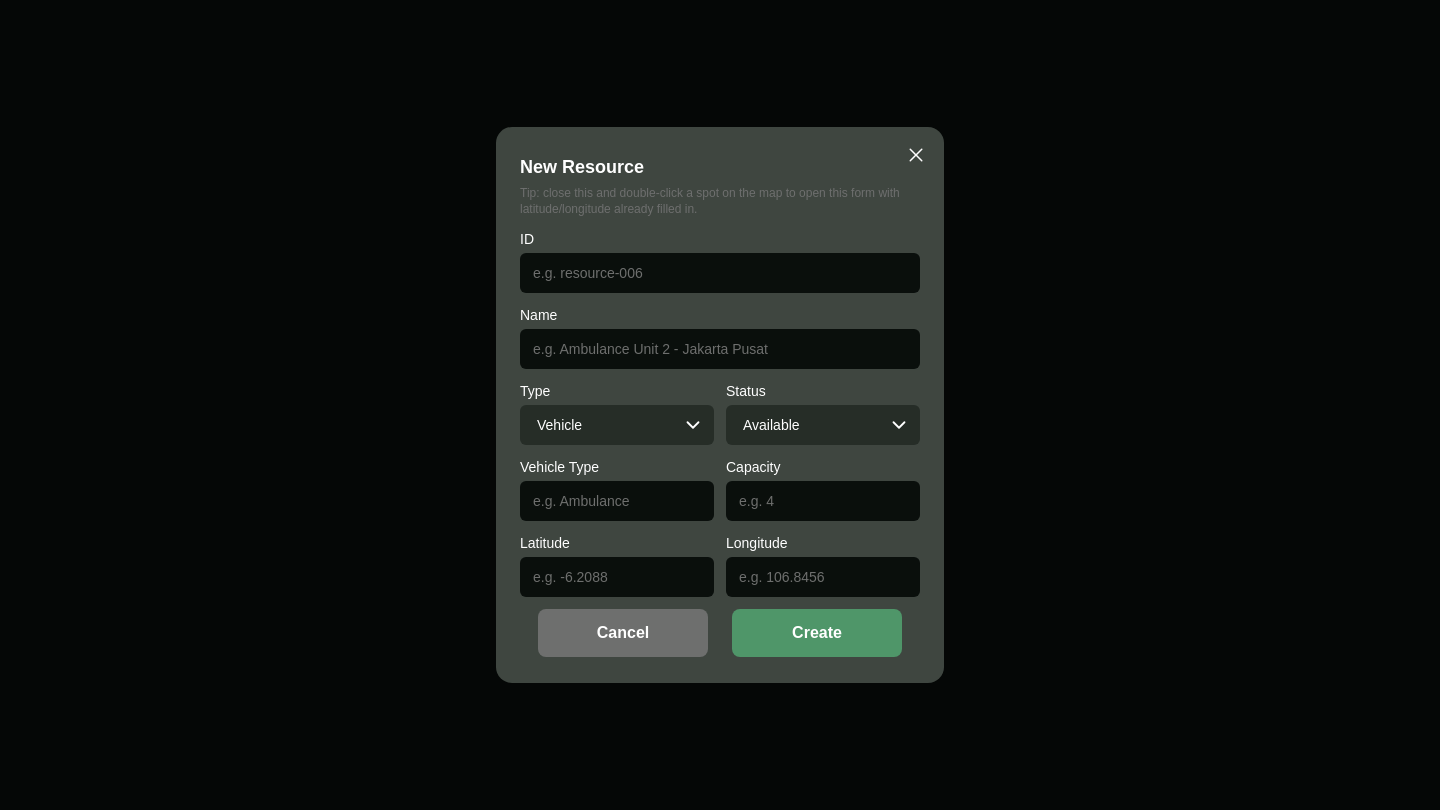
it: CreateResourceModal › shows a RESOURCE_ID_CONFLICT response under the id field without closing
The image size is (1440, 810).
In the field labelled "ID": coordinates (720, 273) [520,253,920,293], type "res-001"
In the field labelled "Name": coordinates (720, 349) [520,329,920,369], type "Ambulance 12"
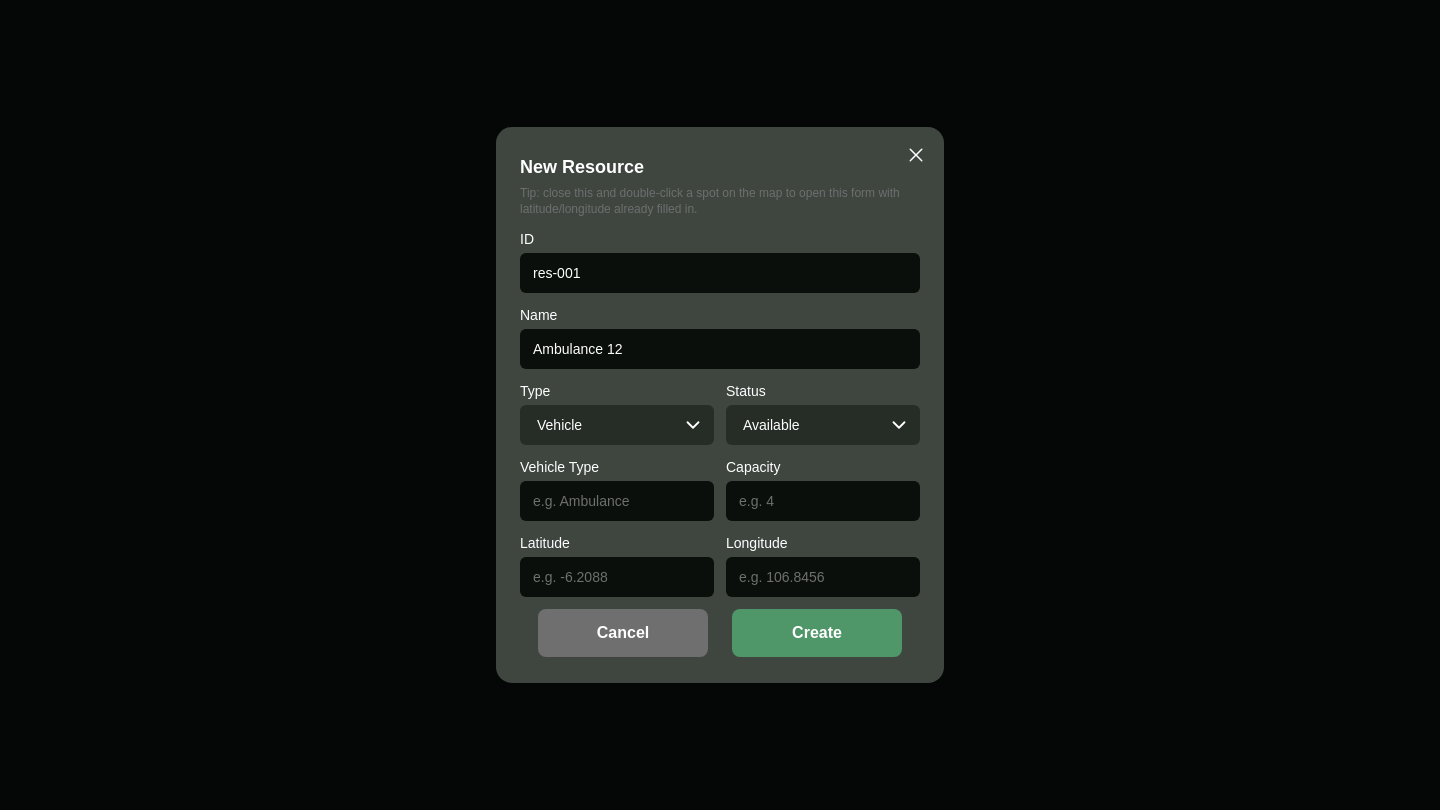
In the field labelled "Vehicle Type": coordinates (617, 501) [520,481,714,521], type "Ambulance"
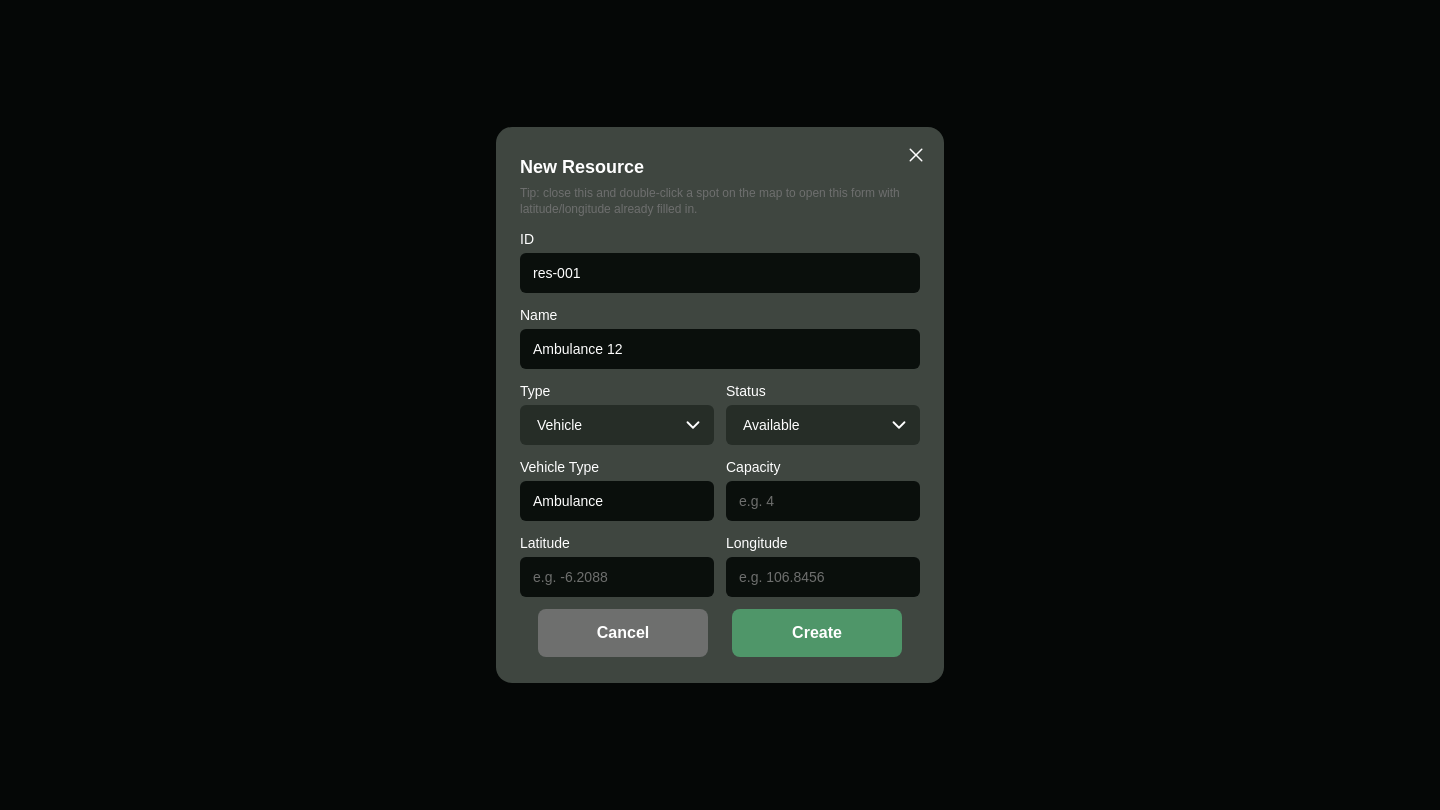
In the field labelled "Capacity": coordinates (823, 501) [726,481,920,521], type "4"
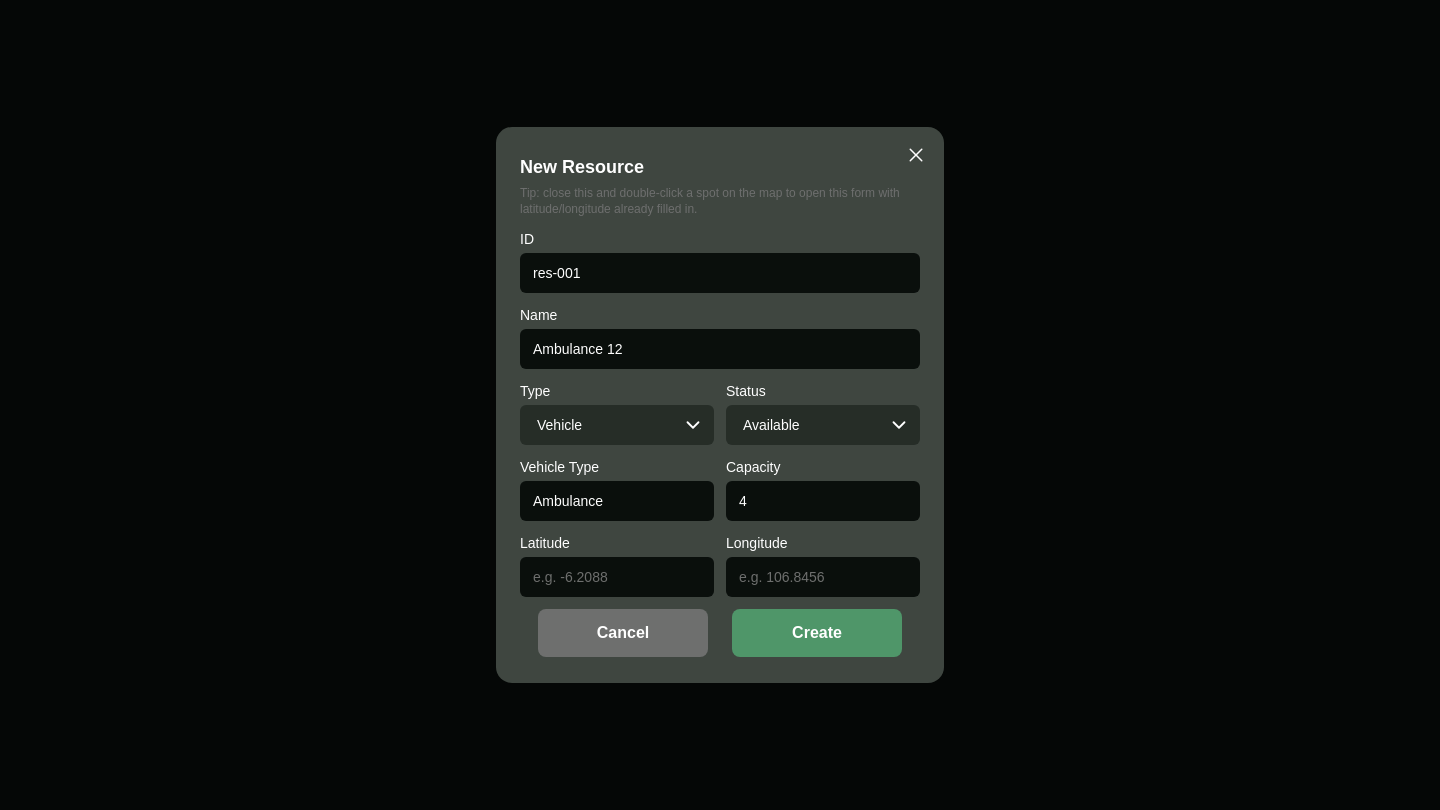
In the field labelled "Latitude": coordinates (617, 577) [520,557,714,597], type "-6.2"
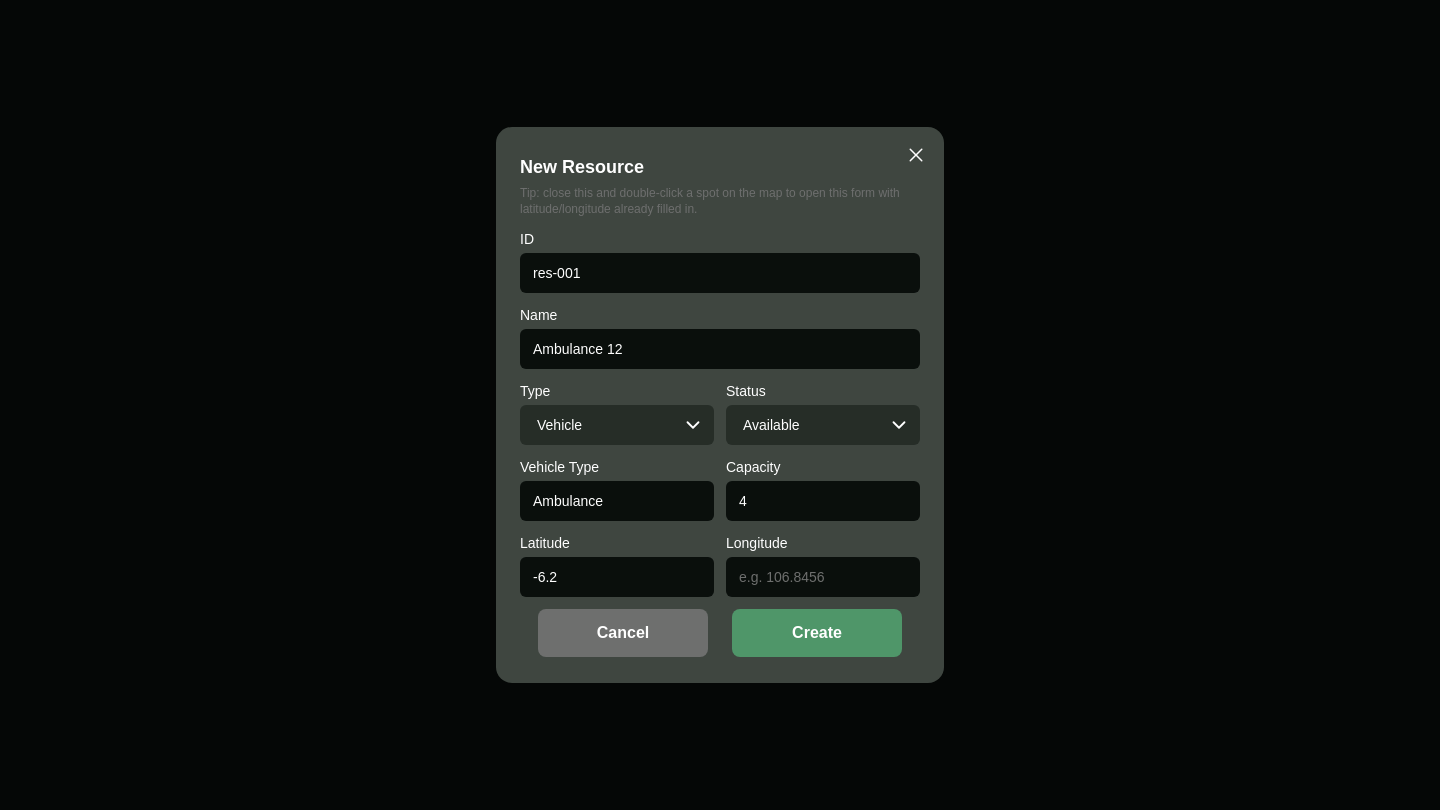
In the field labelled "Longitude": coordinates (823, 577) [726,557,920,597], type "106.8166"
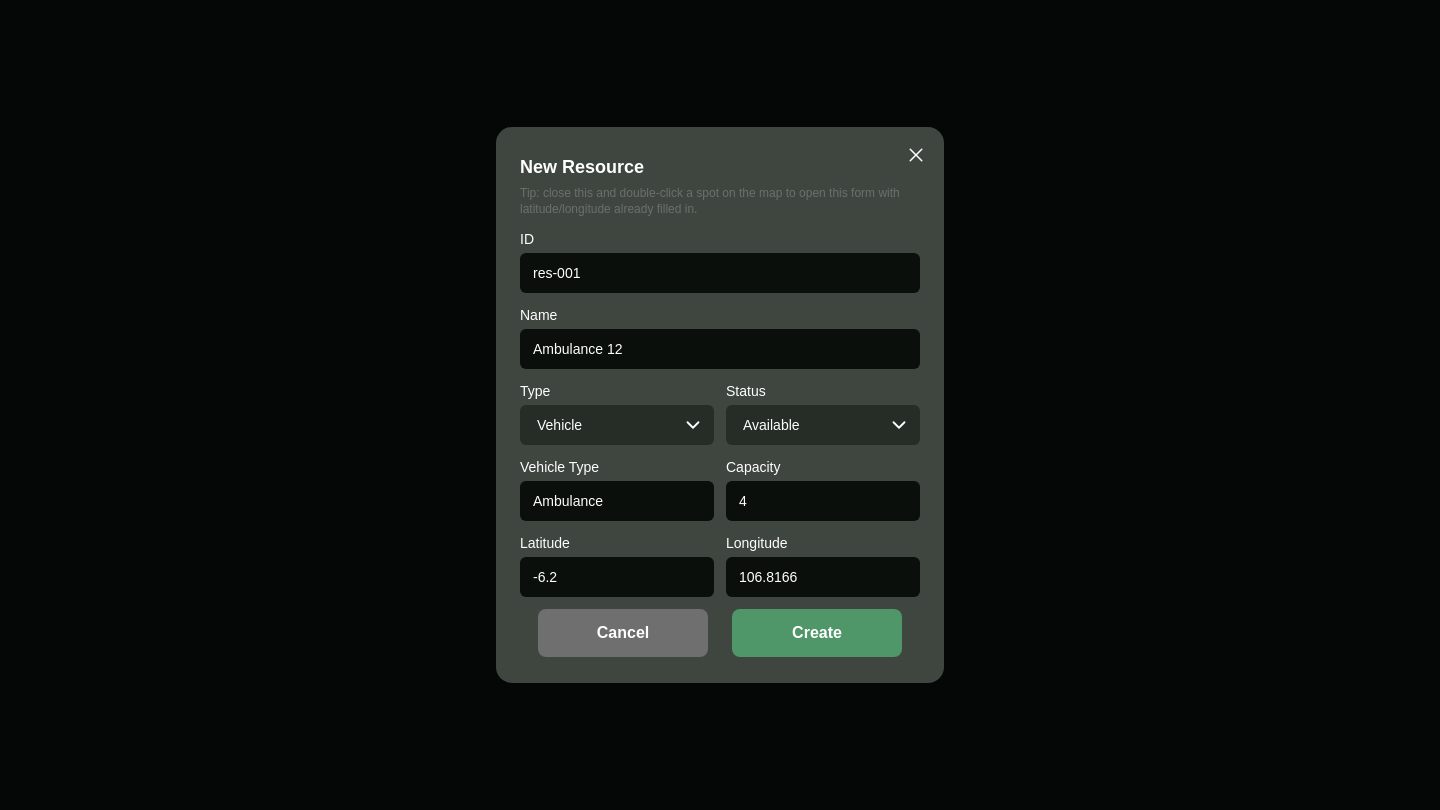
Click the button "Create": coordinates (817, 633) [732,609,902,657]
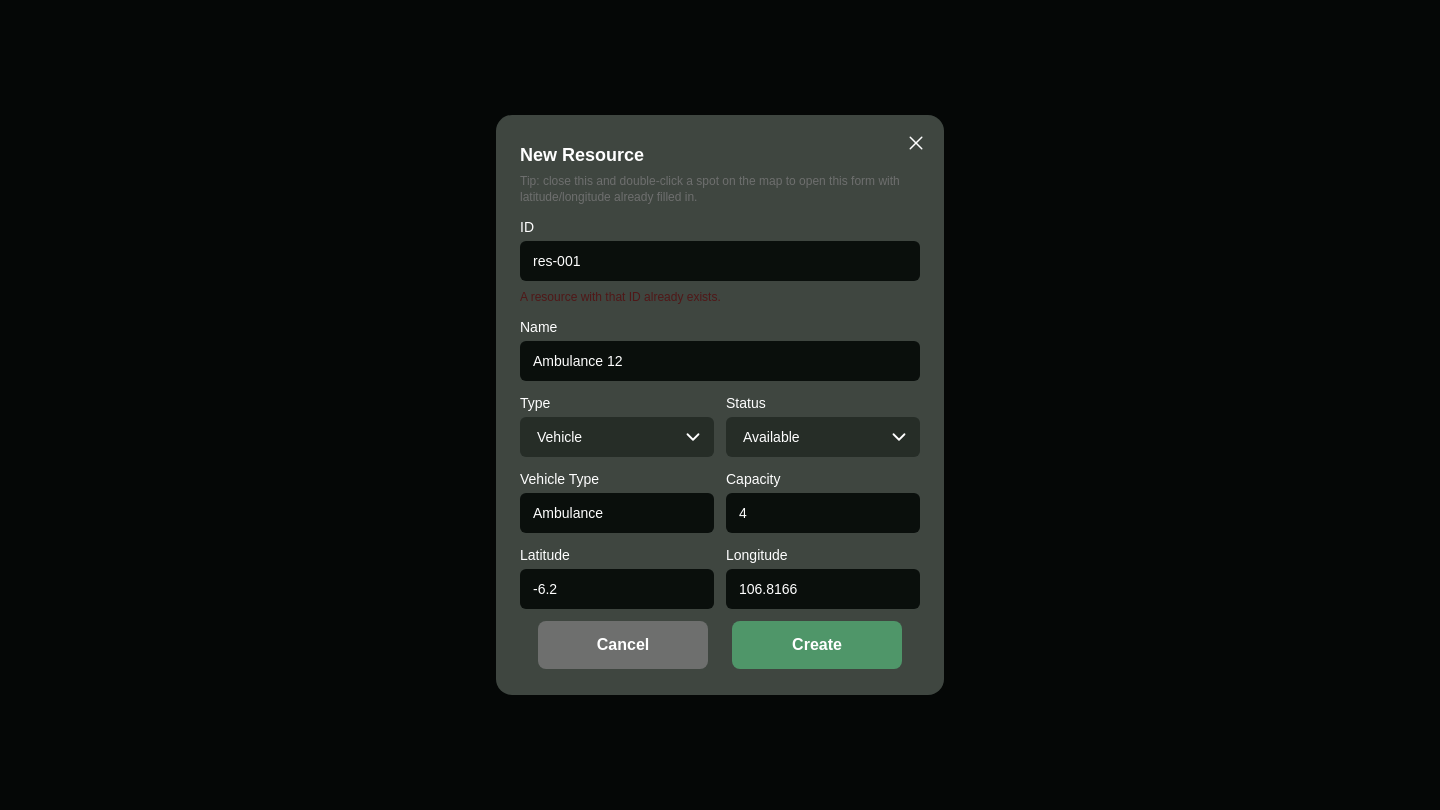
expect the text "A resource with that ID already exists." is shown: met, box [520,290,721,304]
